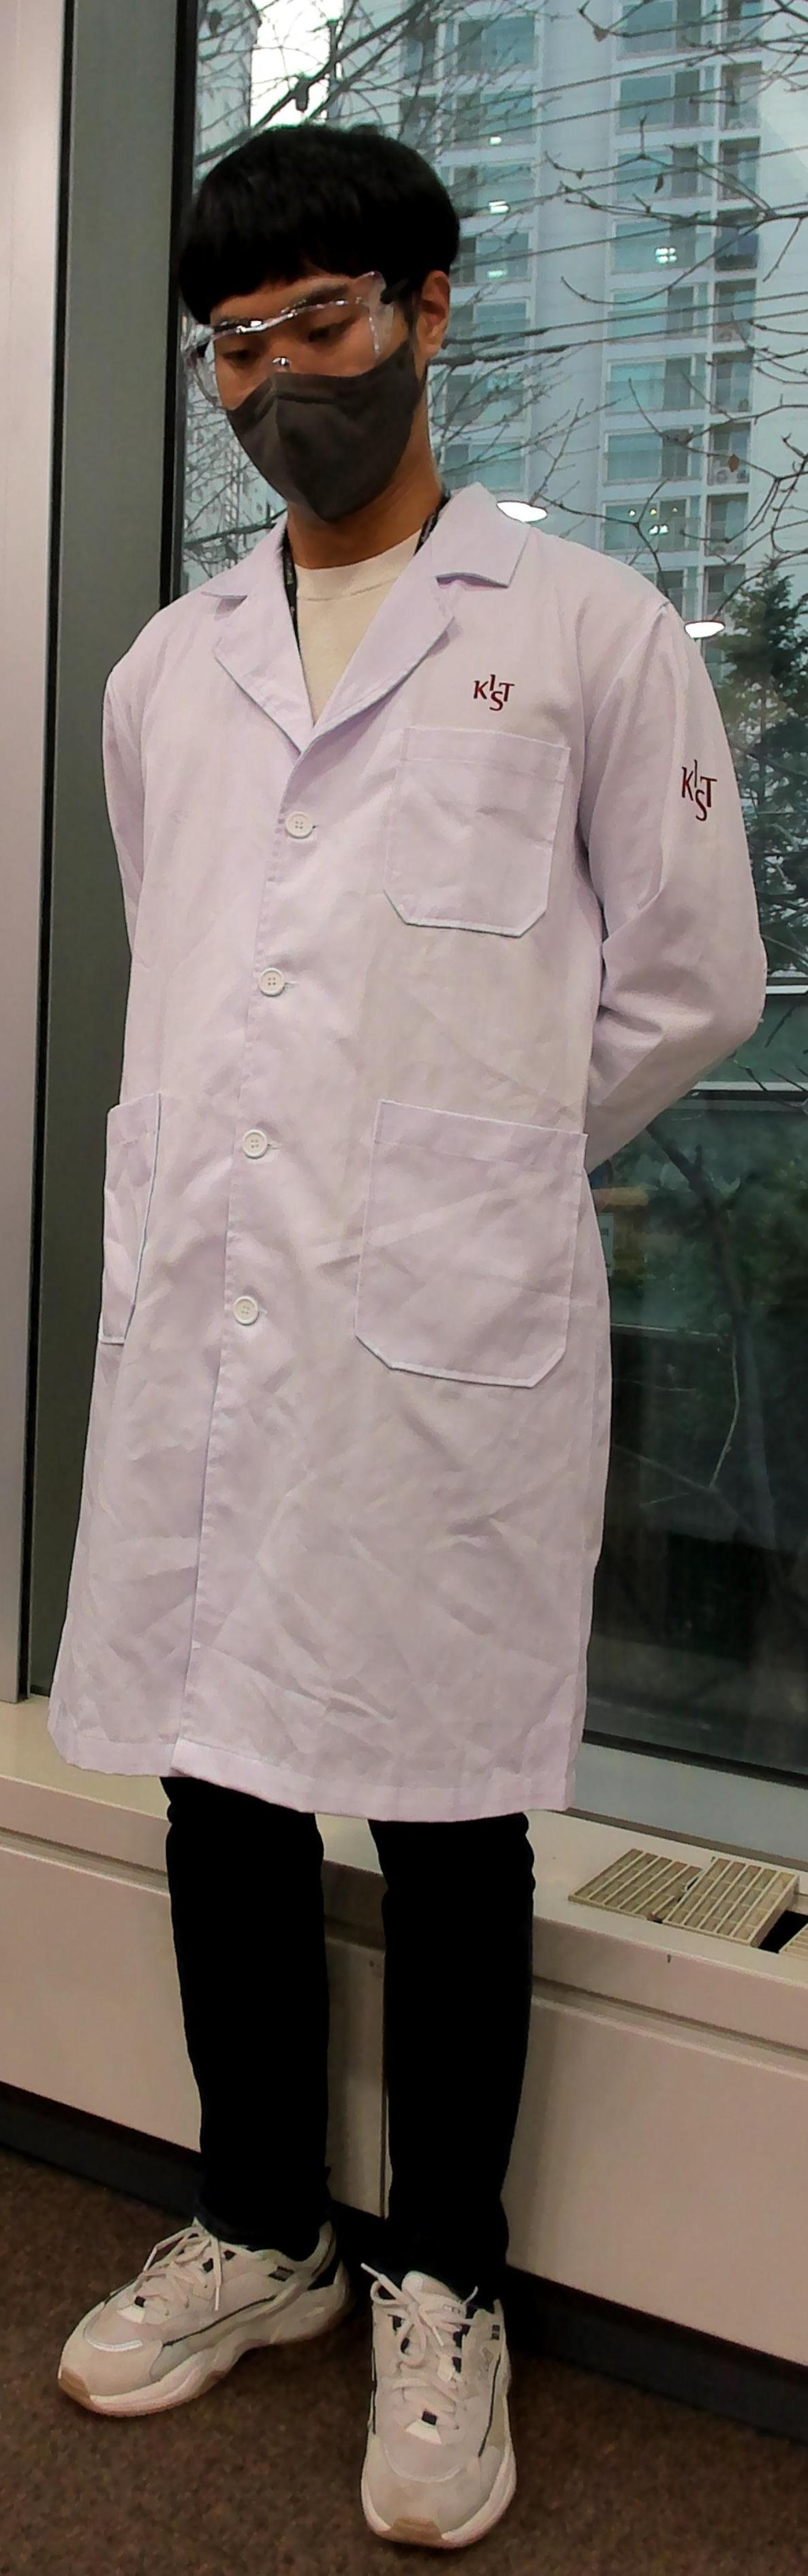lab_coat: (43, 554, 754, 1812)
